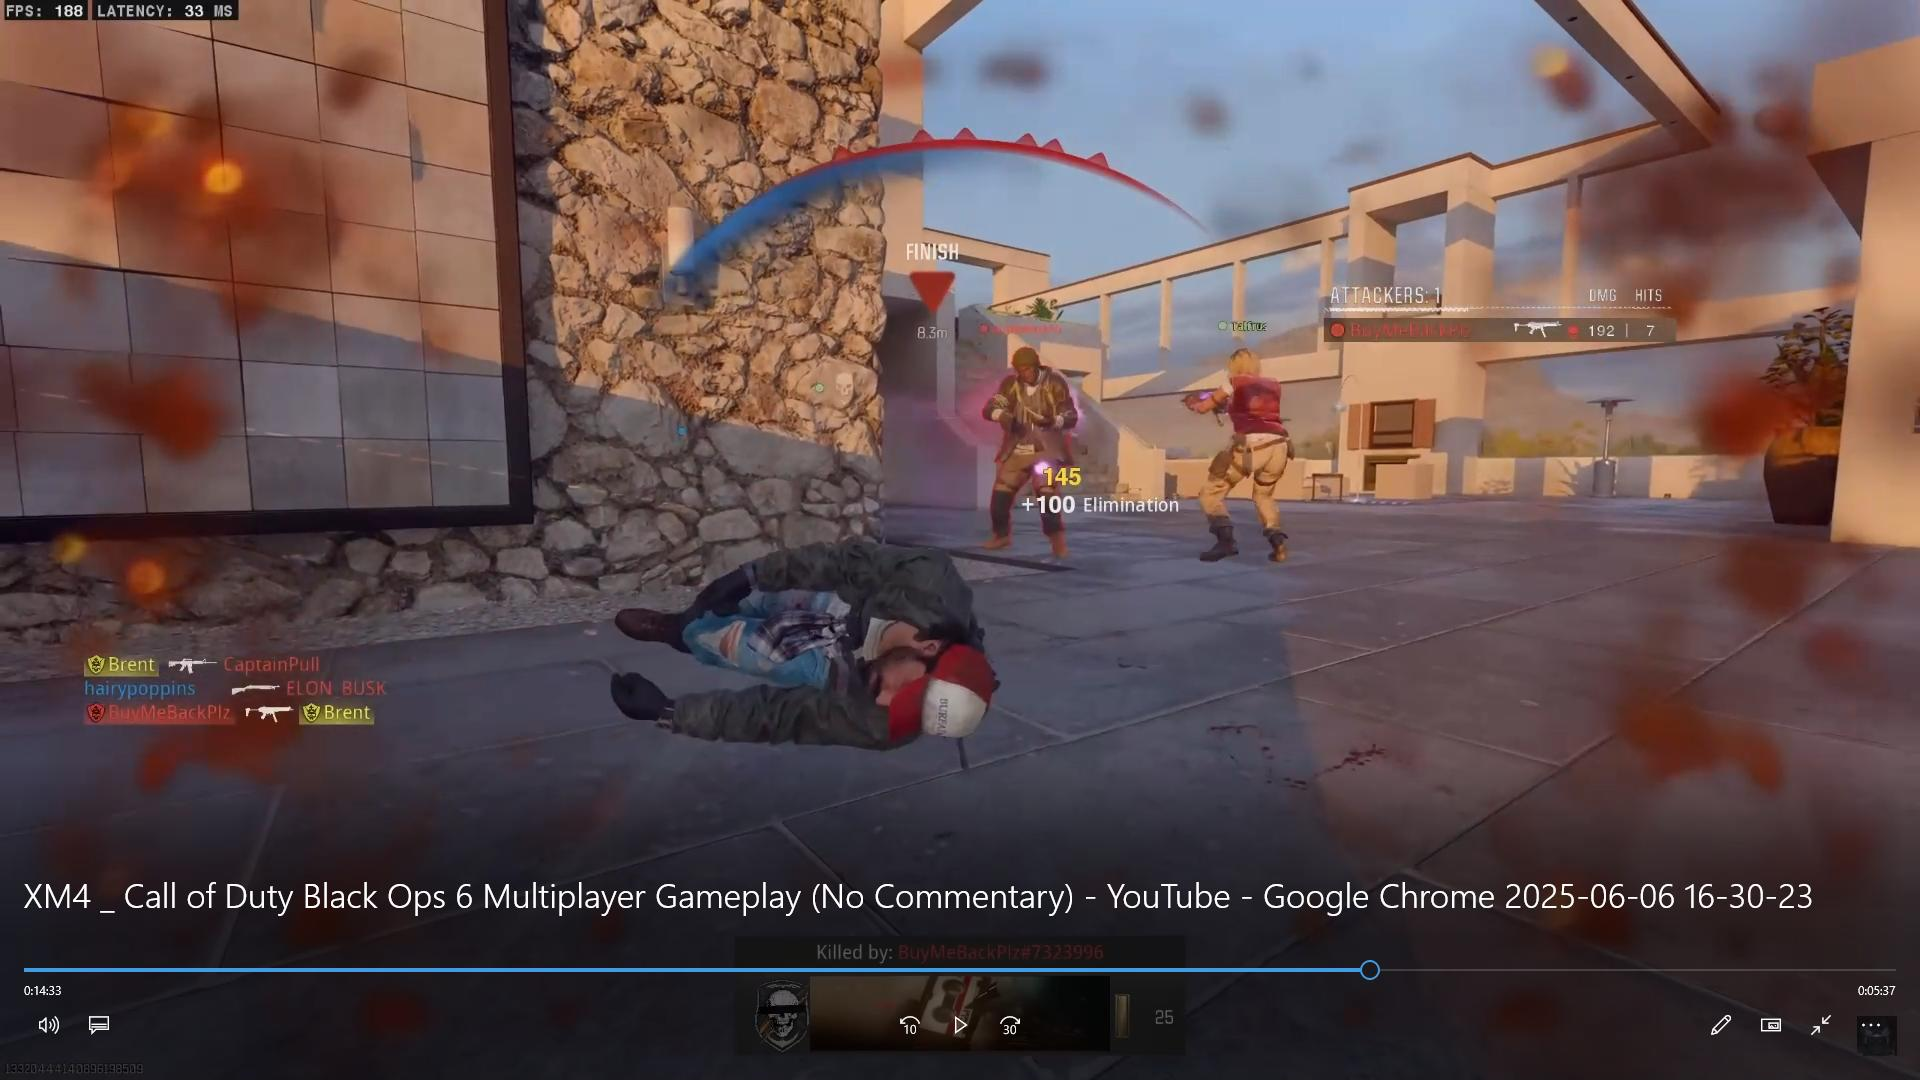Enemy: (965, 313, 1097, 562), (1201, 347, 1298, 562)
